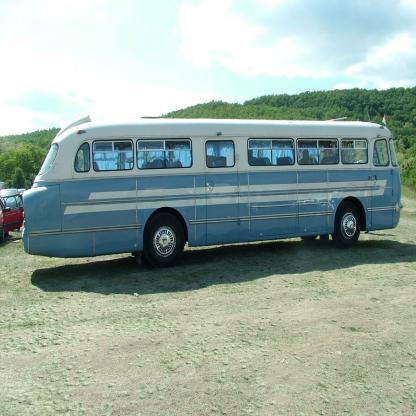Bus: (22, 104, 404, 268)
